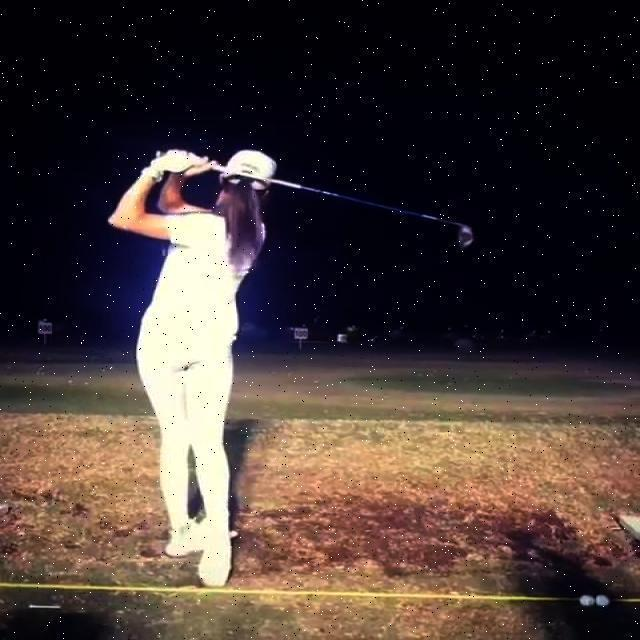ClubHead: (456, 226, 475, 250)
GolfBall: (596, 594, 611, 607), (579, 595, 594, 607)
